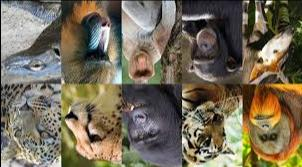Non_Gorille: (111, 3, 178, 84), (56, 87, 118, 167), (64, 0, 121, 84), (183, 84, 241, 166), (4, 4, 60, 82), (2, 88, 54, 165), (252, 8, 296, 82)
gorille_Autres: (115, 82, 177, 166), (242, 84, 301, 166), (182, 3, 241, 80)
